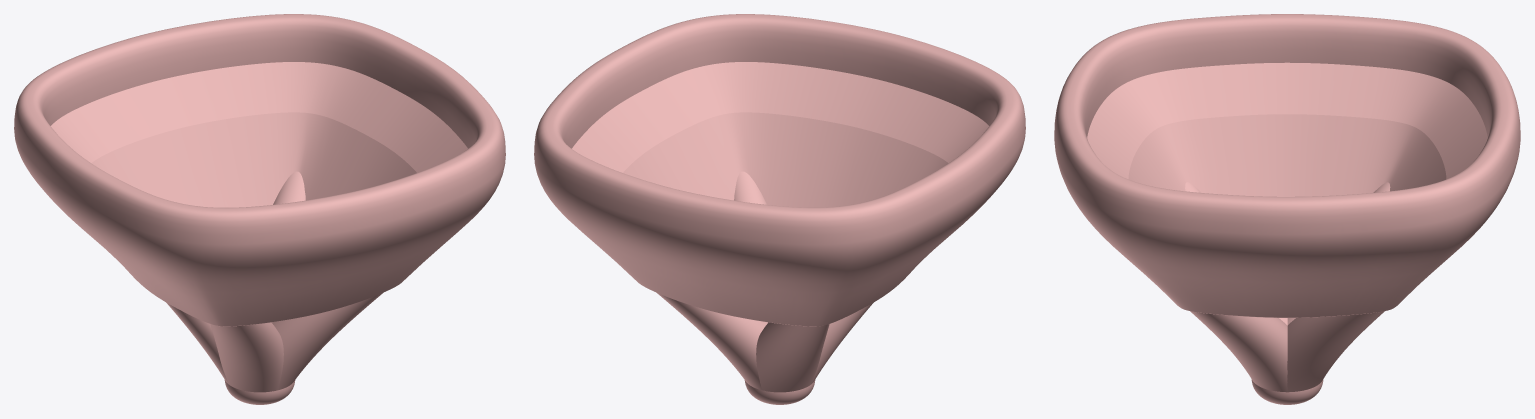
File: ASSCHER_old.glb
3 views of the same model, side by side, from view 1: azimuth 30°, elevation 25°; view 2: azimuth 150°, elevation 25°; view 3: azimuth 270°, elevation 25° (orthographic).
Visible parts, largest first — view 1: Cushion; view 2: Cushion; view 3: Cushion.
Part boxes in pixels (box(x1,y1,x2,y2)): Cushion: box(14, 14, 505, 404); Cushion: box(534, 14, 1025, 404); Cushion: box(1054, 14, 1520, 404).
Size of the model in its own units: 5.79 by 4.01 by 5.82.
